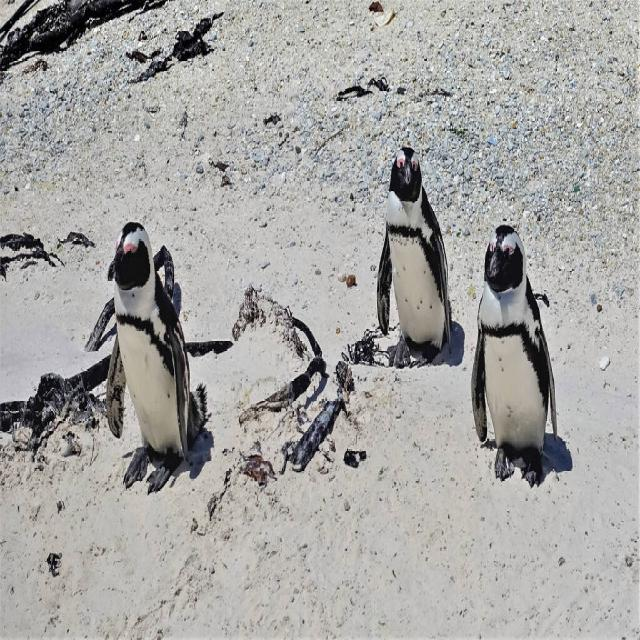Penguins: (102, 212, 210, 499), (472, 216, 560, 493), (375, 136, 454, 381)
